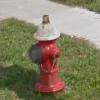Hydrant: (23, 10, 70, 99)
